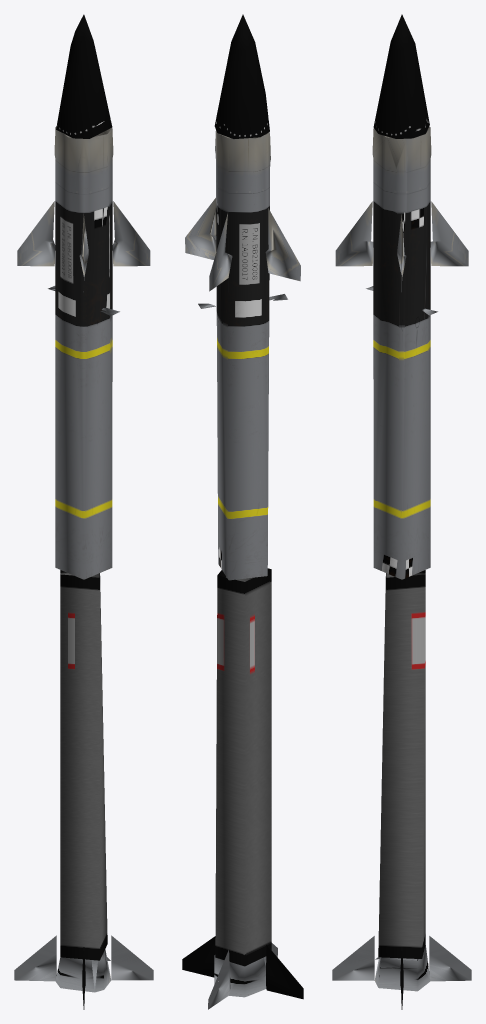
The model's file is scene_ultra_simple.glb.
3 renders of one model, left to right at view 1: azimuth 90°, elevation 25°; view 2: azimuth 150°, elevation 25°; view 3: azimuth 270°, elevation 25°, orthographic.
Size of the model in its own units: 0.391 by 3 by 0.391.
Materials: 3 (3 with a texture image).
